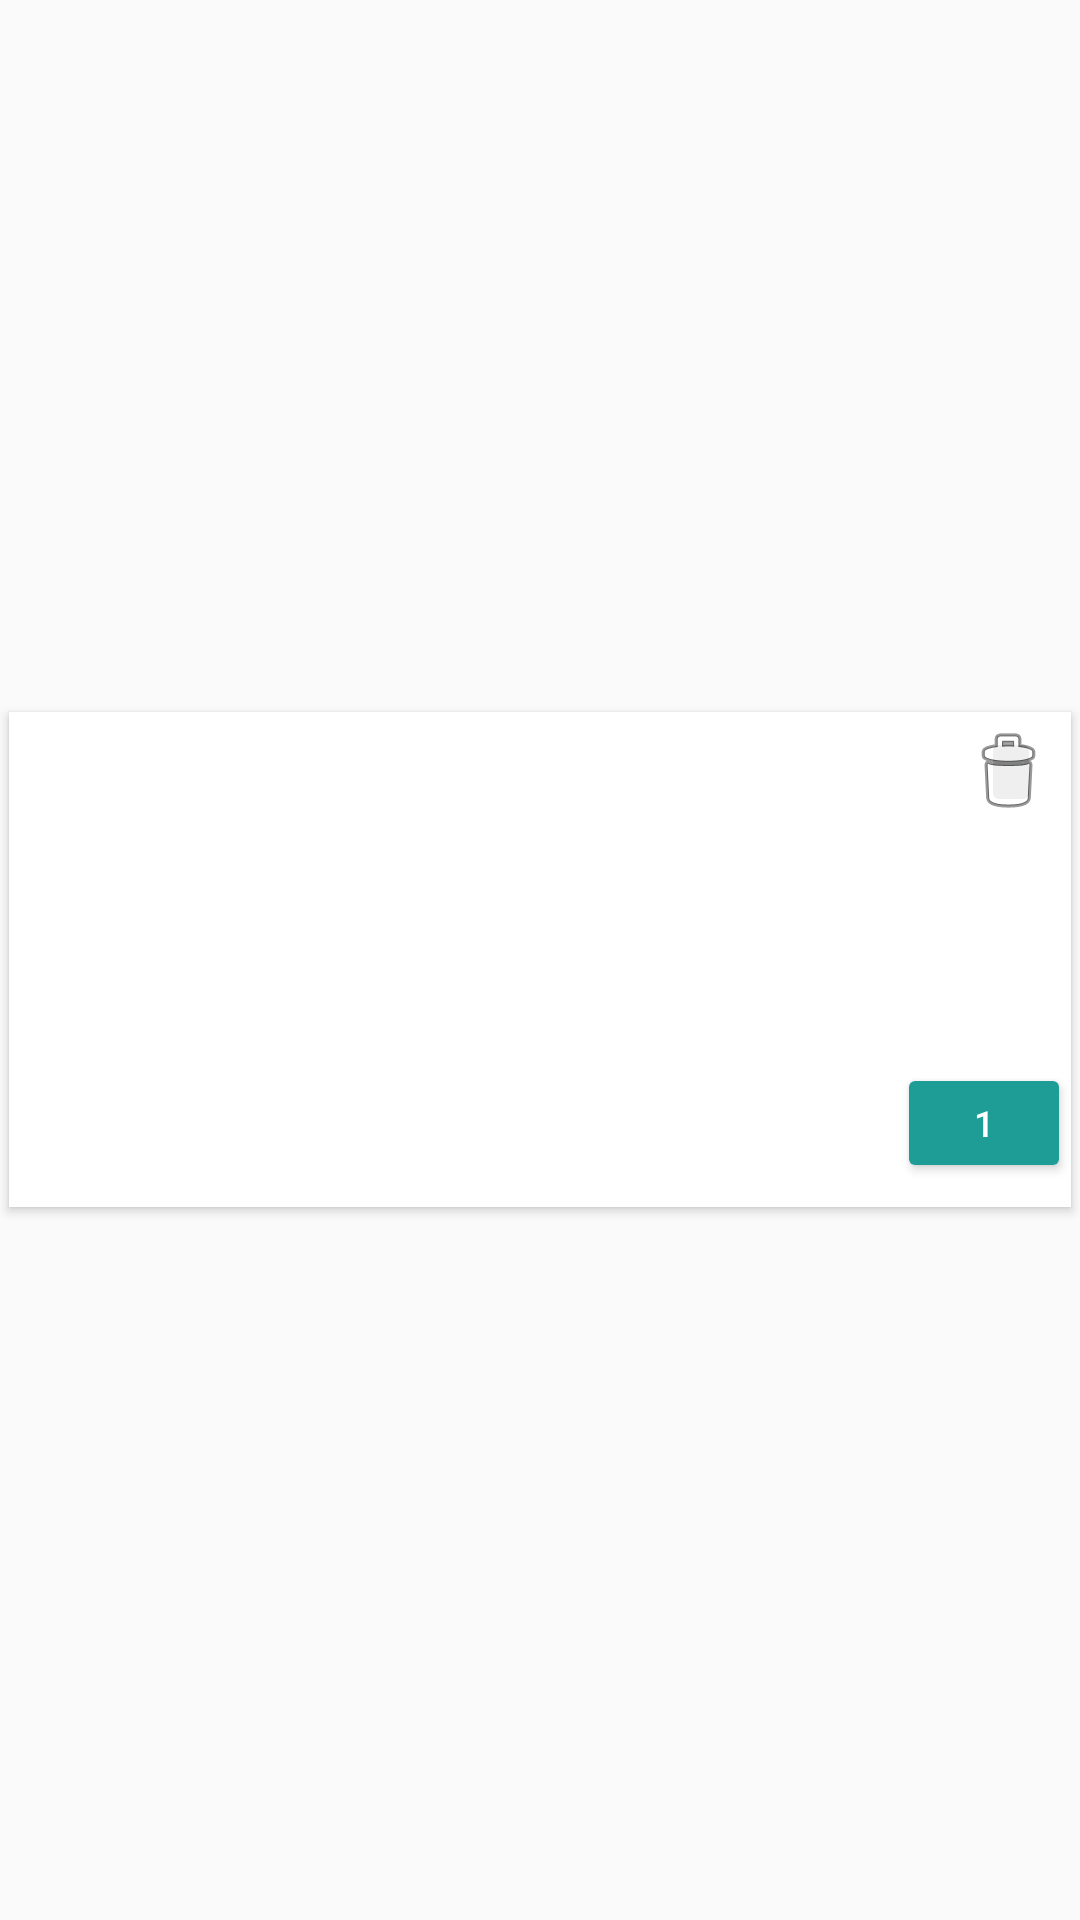

Icon bounding boxes for this 1080px×1920px phone screenshot, format (x1, y1, x2, y2):
delete: (981, 733, 1036, 808)
